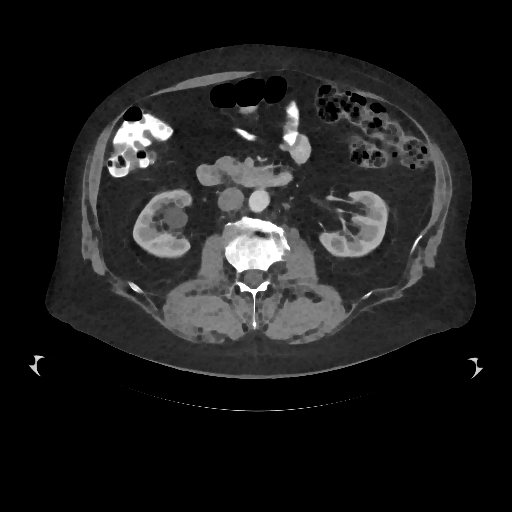Lesion: (161, 204, 188, 234)
